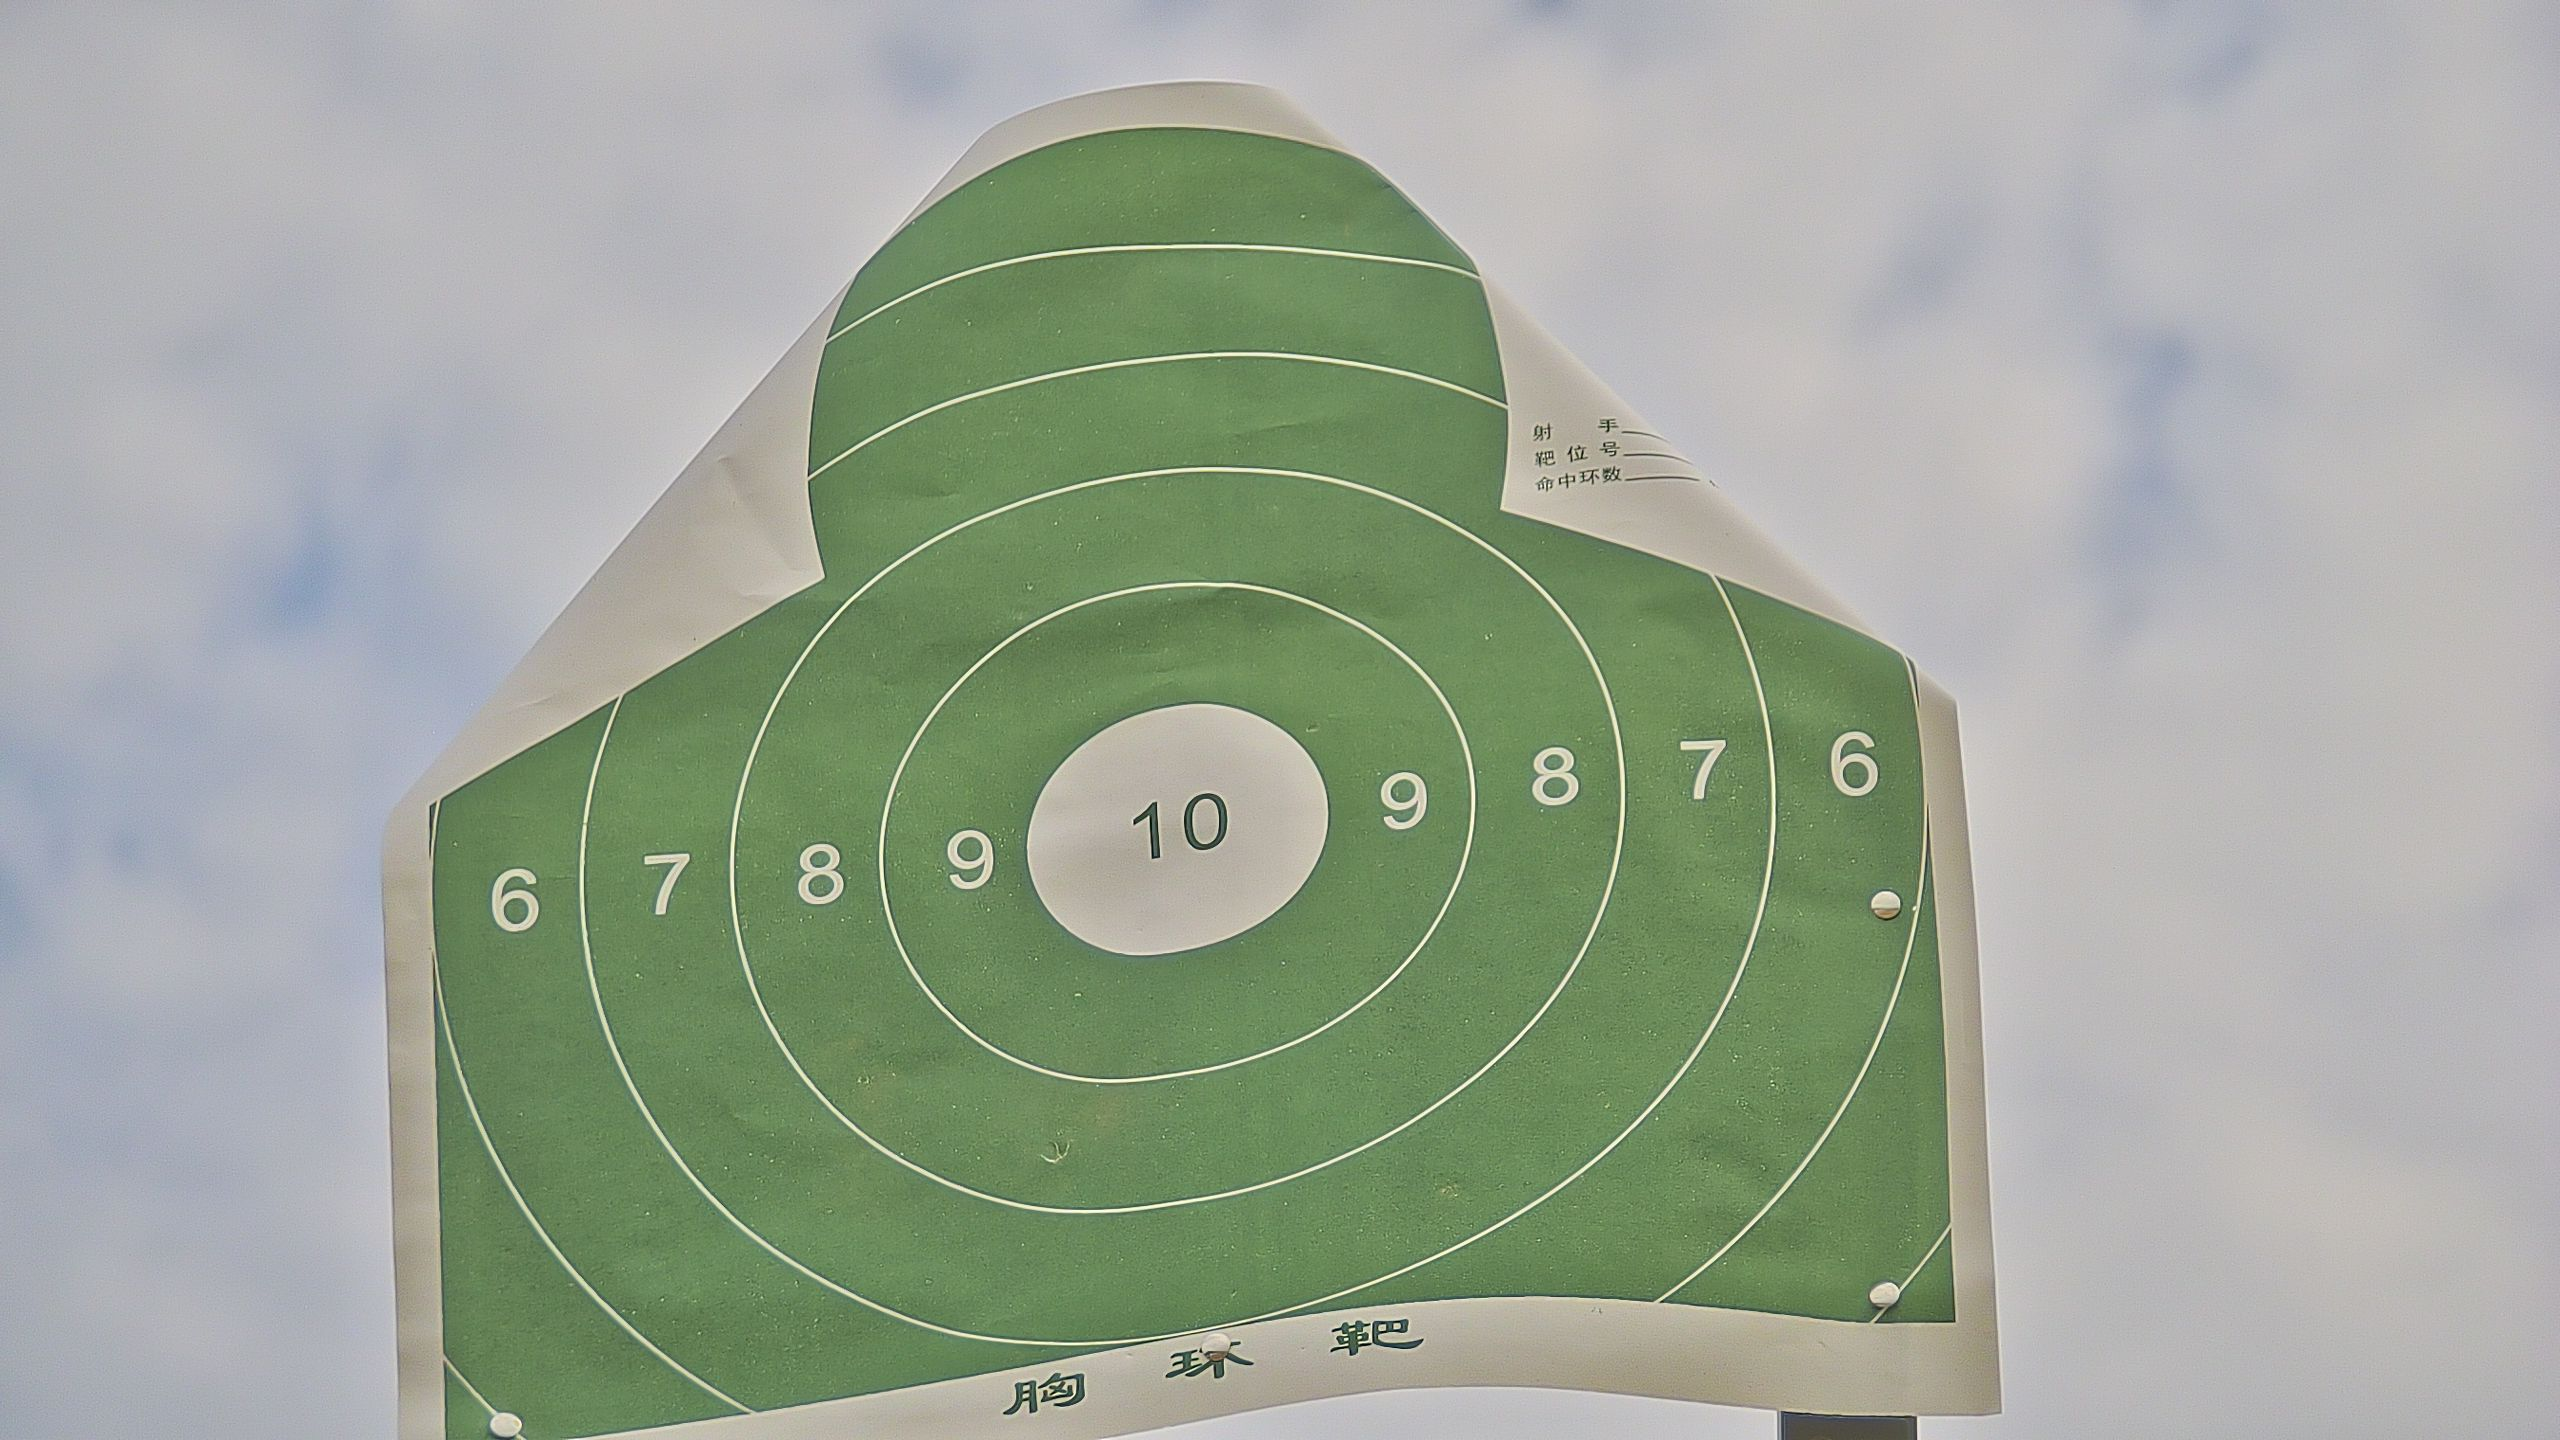target: (425, 127, 1964, 1438)
ten: (1025, 702, 1335, 962)
